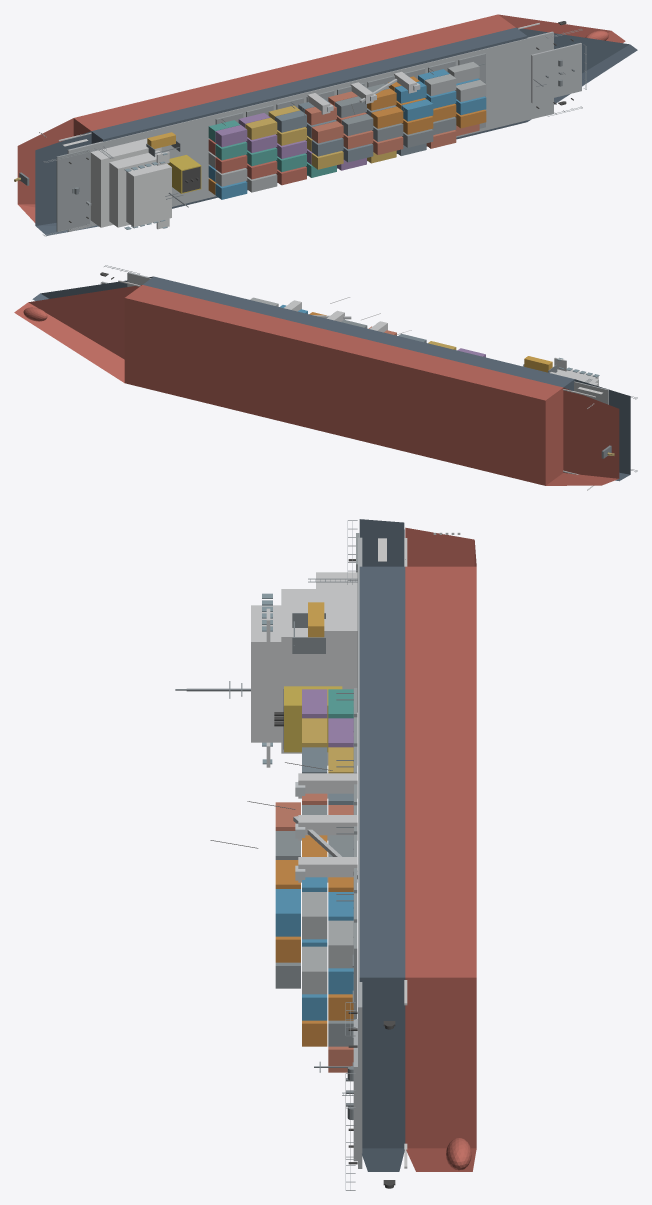
The model's file is cargo_ship_detailed.glb.
3 renders of one model, top to bottom at view 1: azimuth 30°, elevation 25°; view 2: azimuth 150°, elevation 25°; view 3: azimuth 270°, elevation 25°, orthographic. The views are drawn at different scales.
Parts seen in each view (by area): view 1: main_deck, lower_mid, upper_mid, bridge_2, poop_deck, forecastle, upper_stern, bridge_0, upper_bow, lower_stern, bridge_1, lower_bow (+44 smaller); view 2: lower_mid, lower_bow, lower_stern, upper_mid, upper_stern, upper_bow, main_deck, lifeboat; view 3: lower_mid, upper_mid, lower_bow, upper_bow, bridge_0, bridge_2, bridge_1, lower_stern, main_deck, upper_stern, funnel, cont_8_3_1 (+6 smaller).
Part boxes in pixels (left/top/right/bottom): main_deck: left=67, top=31, right=553, bottom=231; lower_mid: left=73, top=14, right=515, bottom=136; upper_mid: left=91, top=27, right=527, bottom=208; bridge_2: left=126, top=163, right=171, bottom=226; poop_deck: left=56, top=149, right=89, bottom=231; forecastle: left=531, top=43, right=581, bottom=103; upper_stern: left=35, top=131, right=98, bottom=235; bridge_0: left=90, top=138, right=161, bottom=227; upper_bow: left=516, top=27, right=637, bottom=121; lower_stern: left=17, top=118, right=73, bottom=222; bridge_1: left=109, top=150, right=161, bottom=227; lower_bow: left=498, top=14, right=625, bottom=43; lower_mid: left=124, top=285, right=563, bottom=485; lower_bow: left=14, top=285, right=141, bottom=382; lower_stern: left=546, top=387, right=619, bottom=485; upper_mid: left=143, top=276, right=574, bottom=390; upper_stern: left=573, top=379, right=630, bottom=481; upper_bow: left=32, top=276, right=153, bottom=300; main_deck: left=127, top=272, right=609, bottom=404; lifeboat: left=524, top=356, right=552, bottom=372; lower_mid: left=405, top=566, right=476, bottom=1148; upper_mid: left=359, top=566, right=405, bottom=1148; lower_bow: left=405, top=977, right=476, bottom=1171; upper_bow: left=360, top=977, right=405, bottom=1171; bridge_0: left=316, top=572, right=357, bottom=765; bridge_2: left=251, top=605, right=281, bottom=742; bridge_1: left=281, top=589, right=315, bottom=753; lower_stern: left=405, top=527, right=476, bottom=566; main_deck: left=358, top=537, right=362, bottom=1168; upper_stern: left=359, top=519, right=405, bottom=566; funnel: left=284, top=686, right=342, bottom=752; cont_8_3_1: left=302, top=946, right=327, bottom=994.
Bounding box in the file's own units: 139 × 19 × 30.4.
